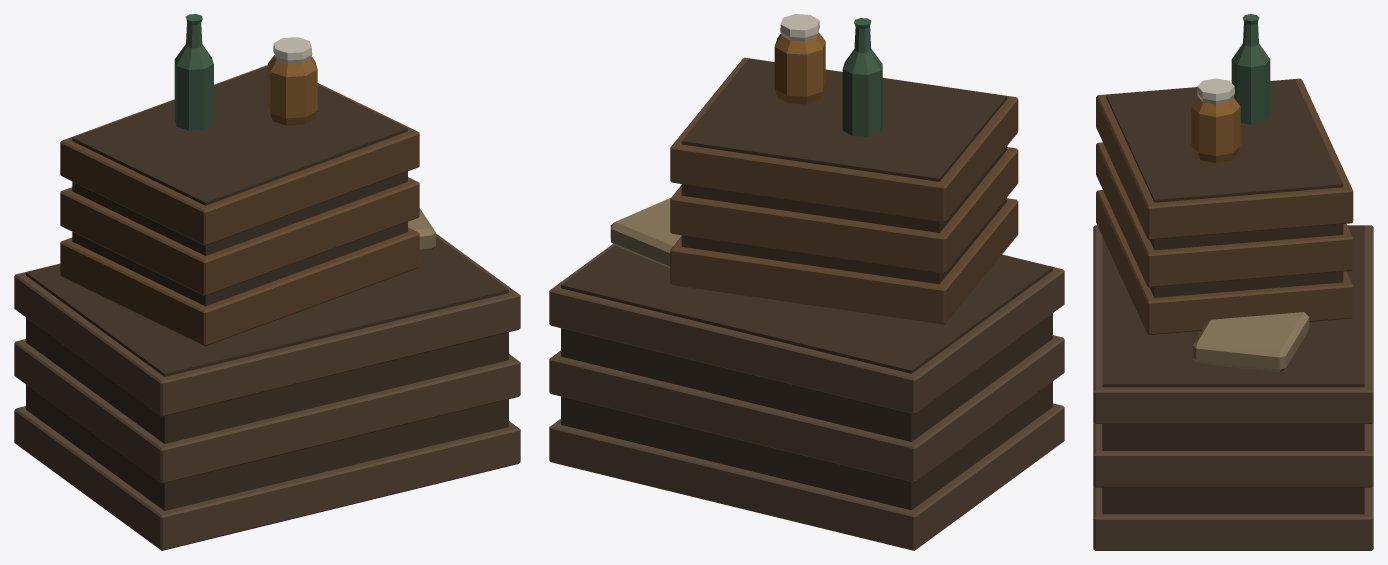
Rendered from prop_crate_stack.glb.
3 renders of one model, left to right at view 1: azimuth 30°, elevation 25°; view 2: azimuth 150°, elevation 25°; view 3: azimuth 270°, elevation 25°, orthographic. The views are drawn at different scales.
Parts seen in each view (by area): view 1: prop_crate_stack; view 2: prop_crate_stack; view 3: prop_crate_stack.
Boxes of the visible parts, left/top/right/bottom form: prop_crate_stack: left=14, top=14, right=520, bottom=550; prop_crate_stack: left=549, top=14, right=1064, bottom=550; prop_crate_stack: left=1093, top=14, right=1373, bottom=550.
Size of the model in its own units: 0.9 by 1.07 by 0.64.
